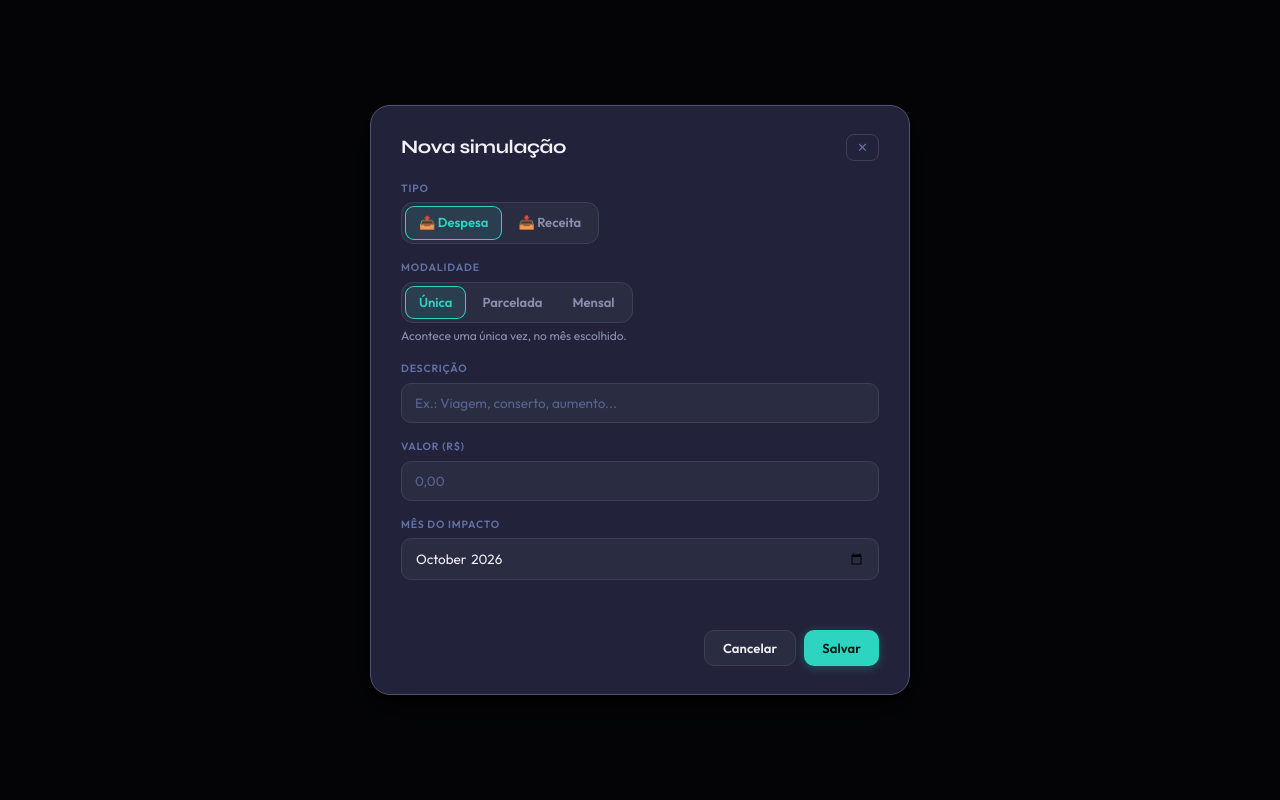
Scenario: SimulationForm: prévia ao vivo › mensal sem duração diz "até o fim do horizonte"
The width and height of the screenshot is (1280, 800).
Click the button "Mensal": click(594, 302) [558,286,628,319]
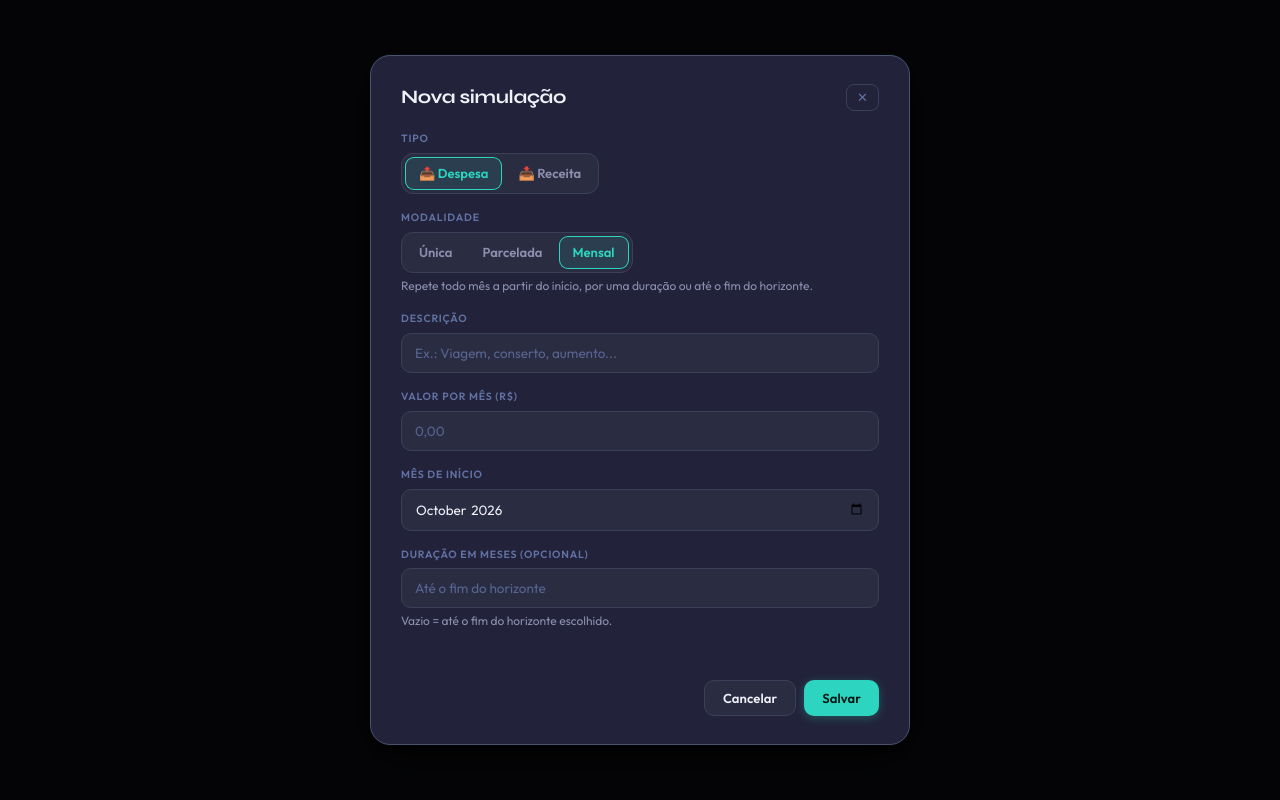
In the field labelled "Valor por mês (R$)": (640, 431) [401,411,879,451], type "800,00"
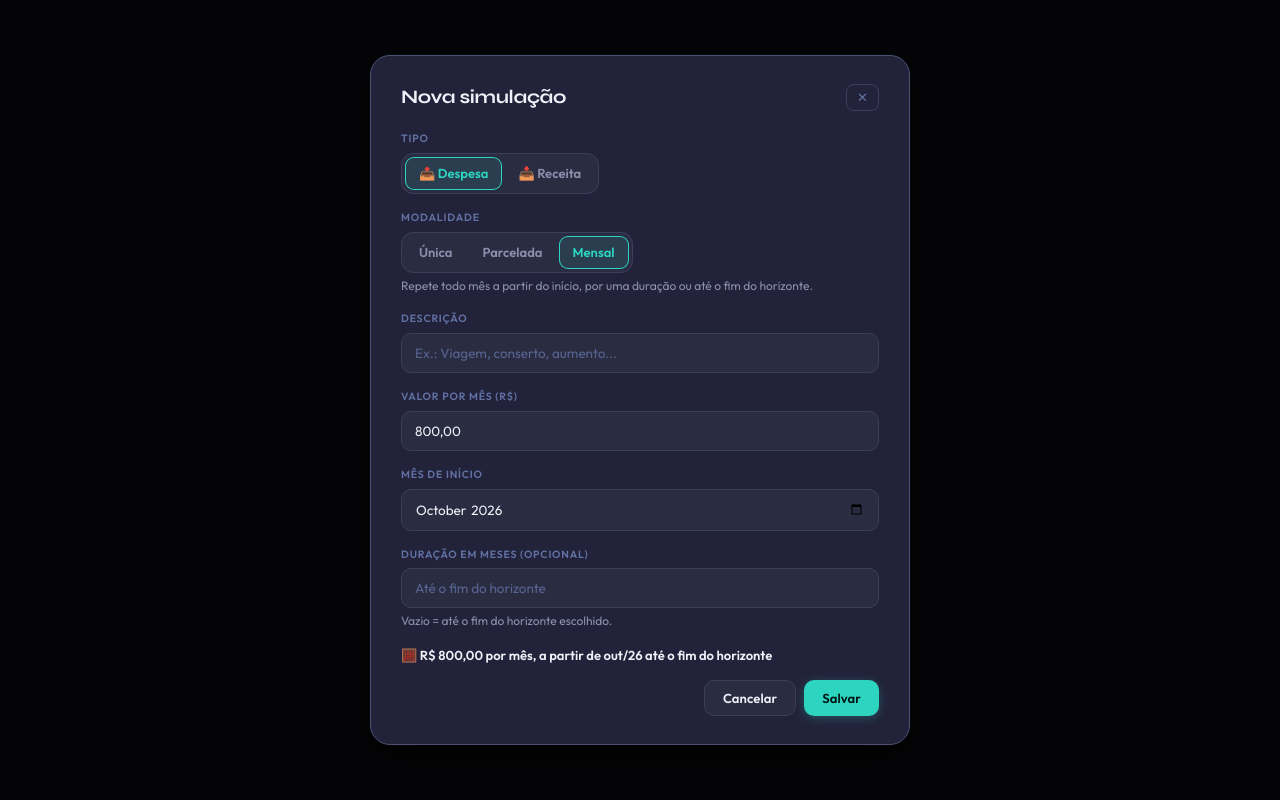
Check: the element with test id "wi-preview" shows "até o fim do horizonte", box [420,647,772,663]
In the number field labelled "Duração em meses (opcional)": (640, 588) [401,568,879,608], type "6"
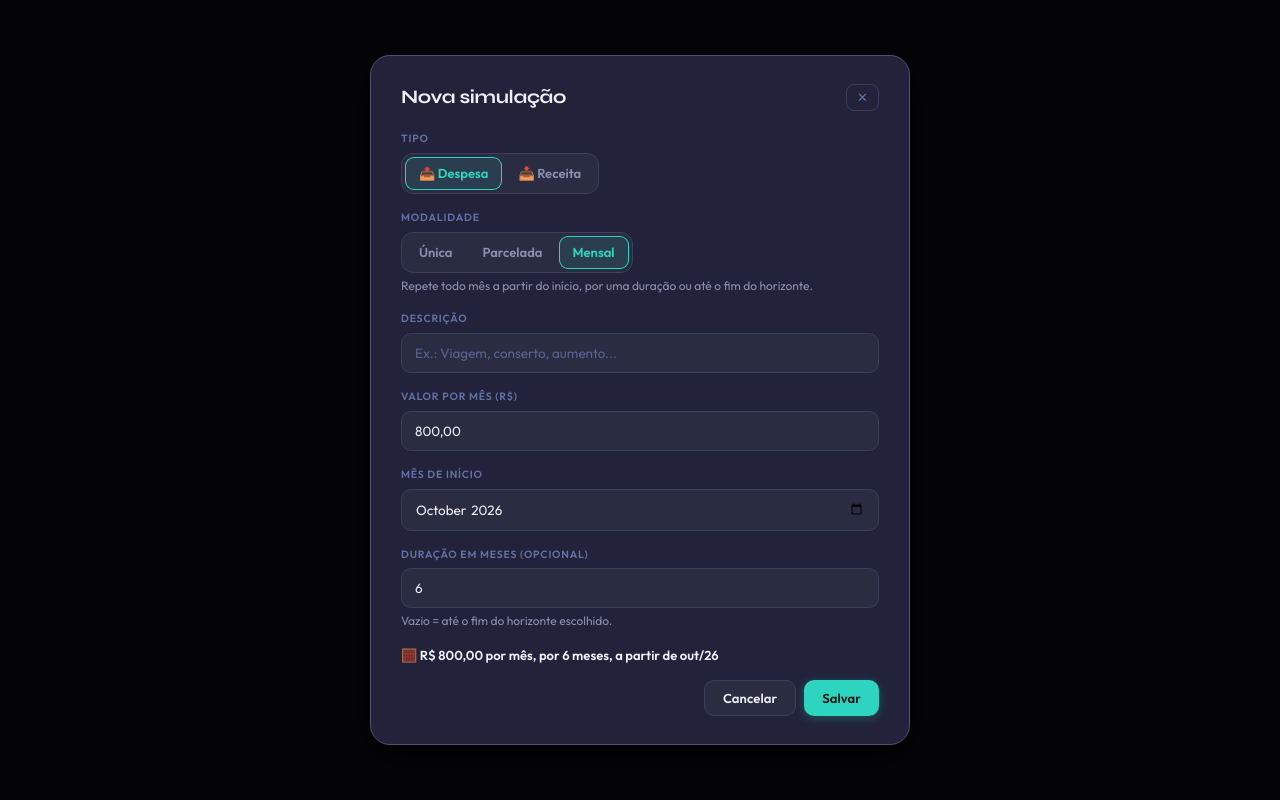
Check: the element with test id "wi-preview" shows "por 6 meses", box [420,647,719,663]
